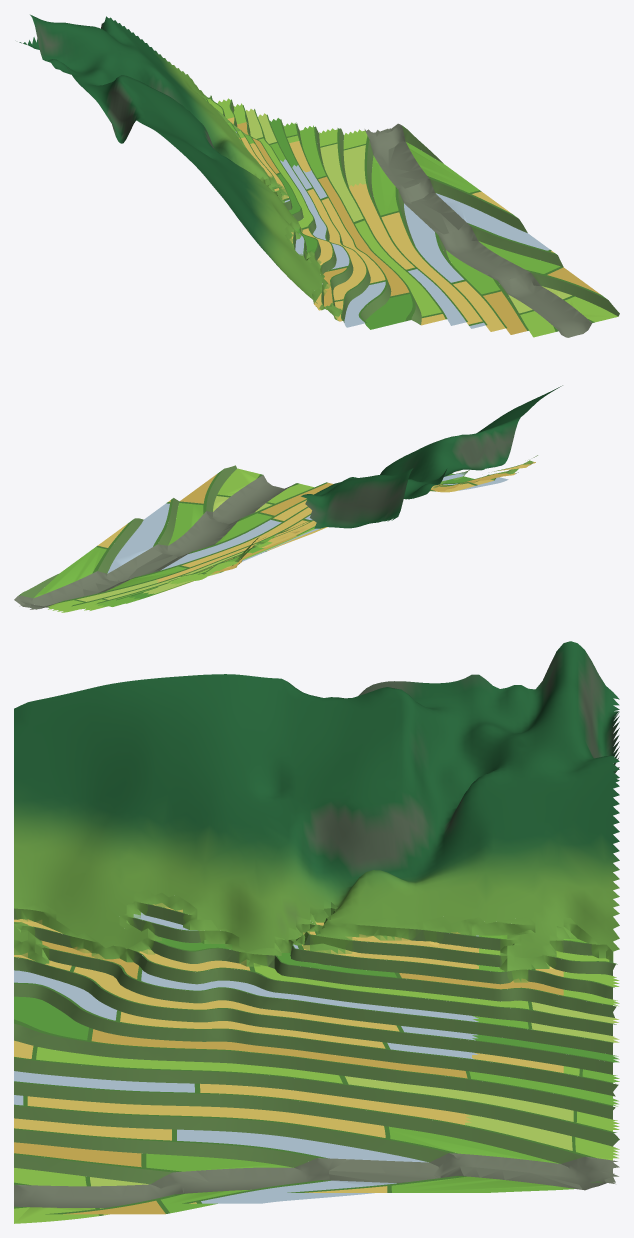
File: payo_land_x0_y2_lod1.glb
3 renders of one model, top to bottom at view 1: azimuth 30°, elevation 25°; view 2: azimuth 150°, elevation 25°; view 3: azimuth 270°, elevation 25°, orthographic. The views are drawn at different scales.
Parts seen in each view (by area): view 1: payo_land_x0_y2; view 2: payo_land_x0_y2; view 3: payo_land_x0_y2.
Part boxes in pixels (x1,y1,x2,y2): payo_land_x0_y2: (19,14,619,337); payo_land_x0_y2: (14,385,562,612); payo_land_x0_y2: (14,641,619,1223).
Bounding box in the file's own units: 255 × 161 × 258.
